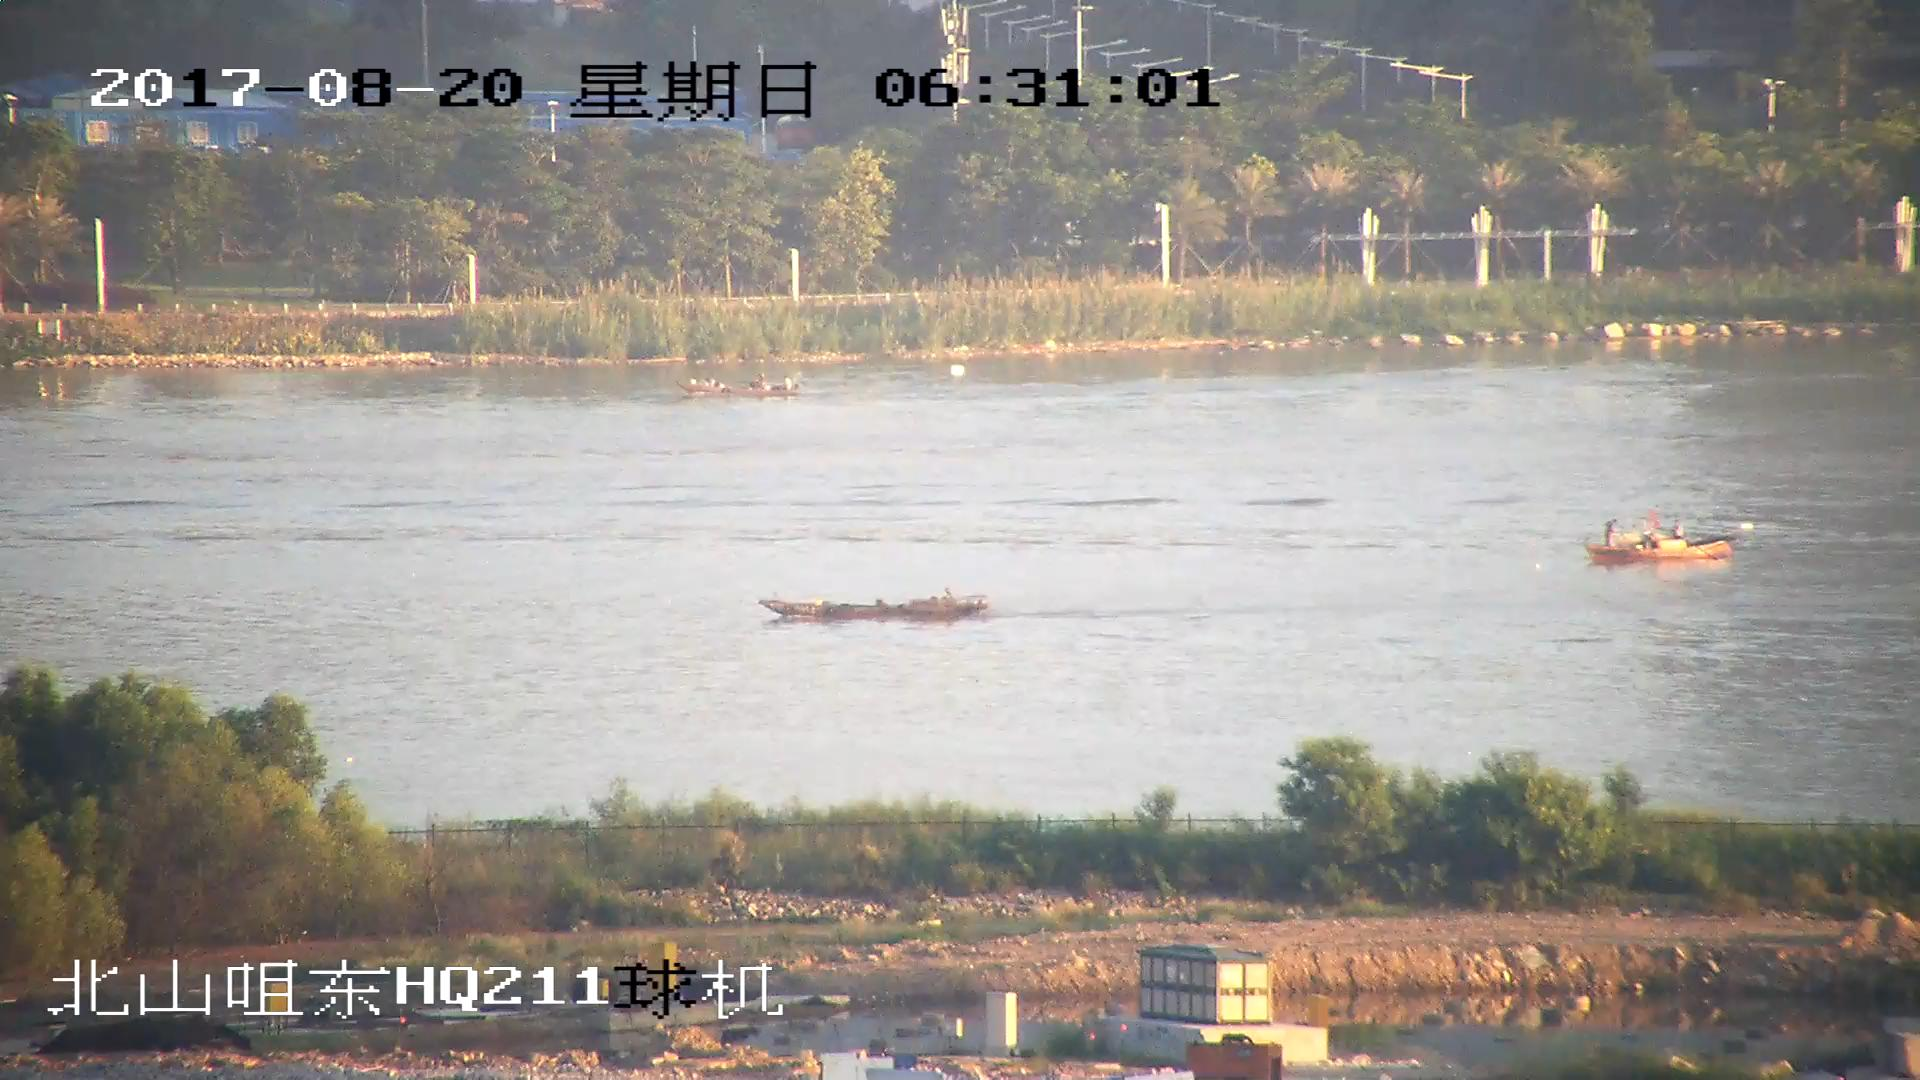fishing boat: (1588, 516, 1735, 566), (755, 592, 987, 624), (681, 374, 802, 403)
